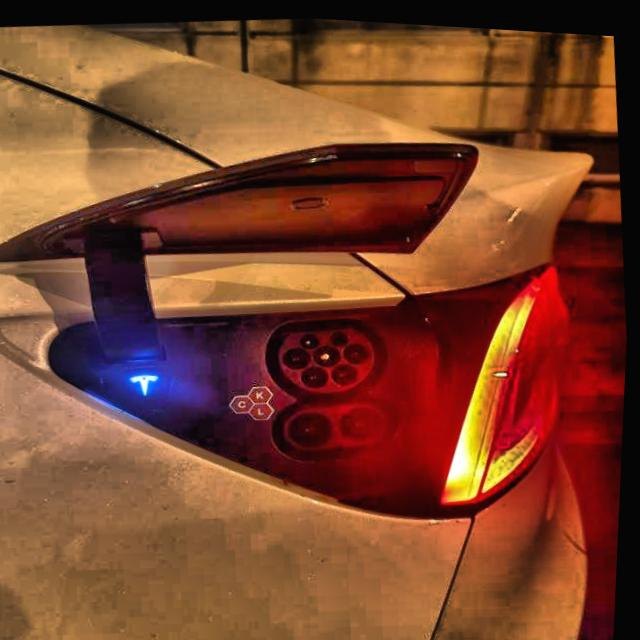inlet: (282, 324, 376, 388)
inlet-above-left: (303, 330, 322, 345)
inlet-above-right: (332, 327, 351, 341)
inlet-below-left: (304, 361, 332, 384)
inlet-below-right: (334, 359, 361, 381)
inlet-center: (316, 340, 343, 363)
inlet-center-left: (286, 343, 314, 365)
inlet-center-right: (345, 338, 373, 360)
